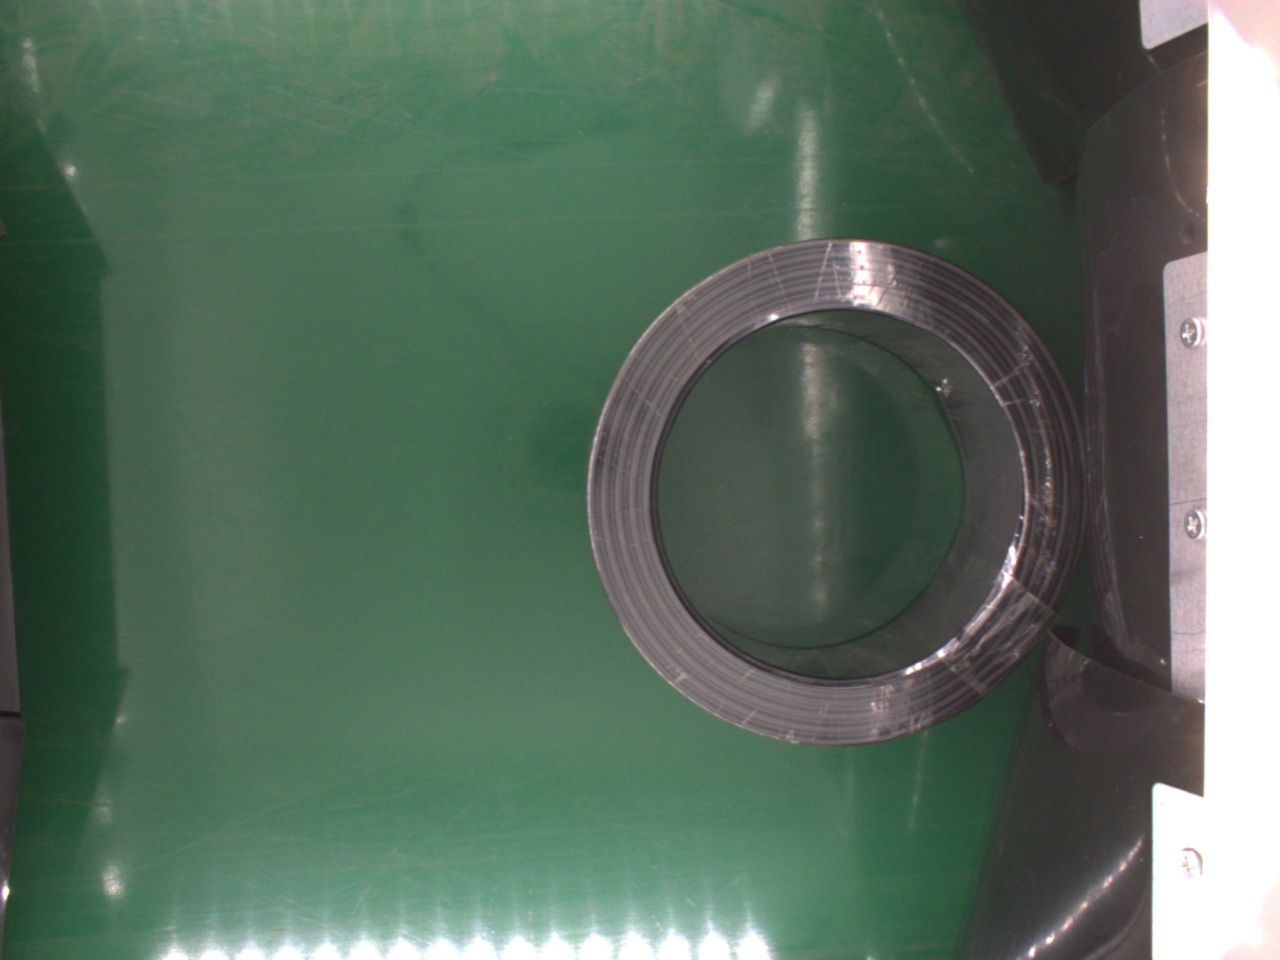black: (582, 240, 1081, 749)
